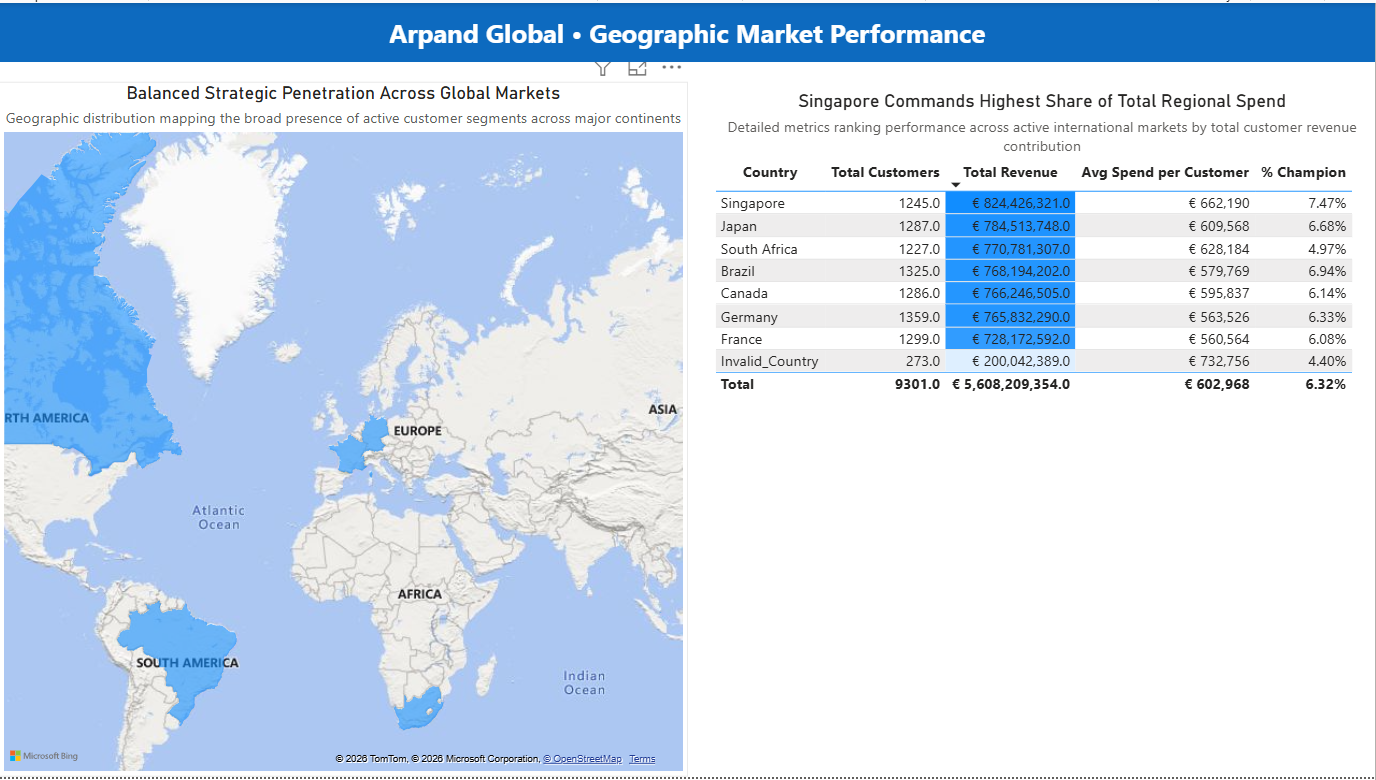

This screenshot's page, from the dashboard's own definition file:
{"tool":"powerbi","page":{"name":"Geographic View","canvas":[1280,720],"ordinal":2},"visuals":[{"type":"filledMap","title":"Balanced Strategic Penetration Across Global Markets","fields":{"Category":["rfm_segmented_final.Country"]},"box":[0,73.3,640.7,646.5],"z":0},{"type":"tableEx","title":"Singapore Commands Highest Share of Total Regional Spend","fields":{"Values":["rfm_segmented_final.Country","rfm_segmented_final.Total Customers","rfm_segmented_final.Total Revenue","rfm_segmented_final.Avg Spend per Customer","rfm_segmented_final.% Champion"]},"box":[660.5,73.3,619.8,344.2],"z":1000},{"type":"shape","title":"Arpand Global • E-Commerce  RFM Analysis","box":[0,0,1280.3,54.9],"z":2000}]}

Visuals, with their boxes in screenshot pixels (x1, y1, x2, y2), scaled from the page's 1280x720 canvas onto the 1376x780 screenshot:
"Balanced Strategic Penetration Across Global Markets" filledMap: (0,79,689,779)
"Singapore Commands Highest Share of Total Regional Spend" tableEx: (710,79,1375,452)
"Arpand Global • E-Commerce  RFM Analysis" shape: (0,0,1375,59)
